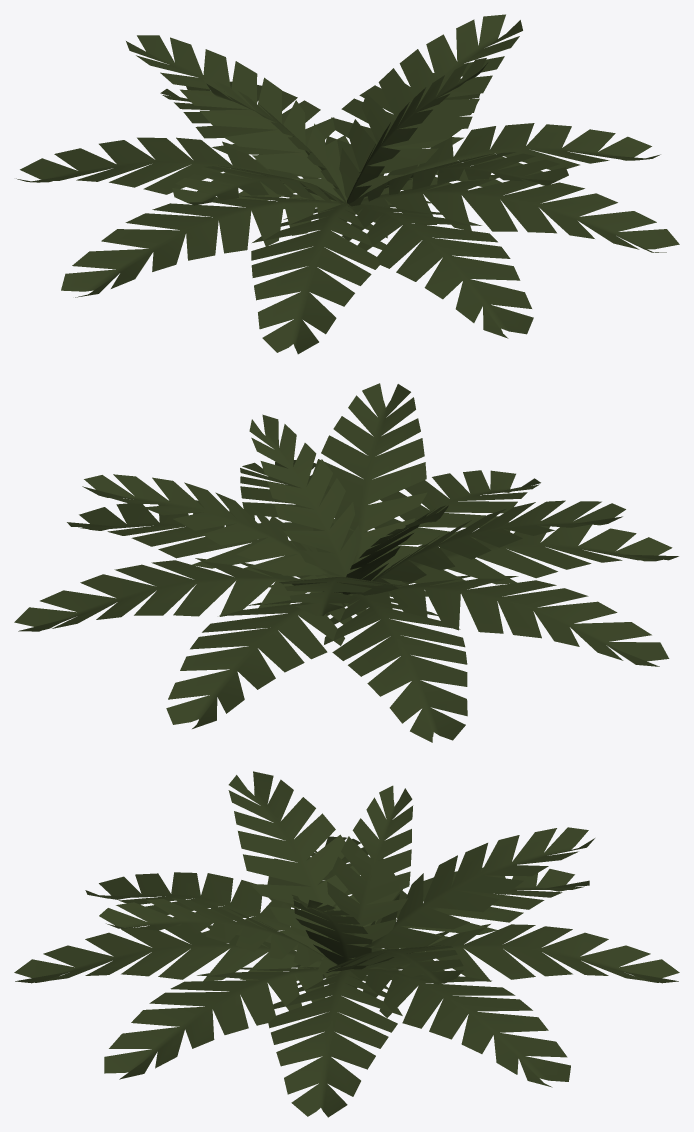
File: fern.fbx
3 views of the same model, one above another, from view 1: azimuth 30°, elevation 25°; view 2: azimuth 150°, elevation 25°; view 3: azimuth 270°, elevation 25° (orthographic). The views are drawn at different scales.
Visible parts, largest first — view 1: fern; view 2: fern; view 3: fern.
Part boxes in pixels (left/top/right/bottom): fern: left=16, top=14, right=679, bottom=354; fern: left=14, top=383, right=678, bottom=742; fern: left=14, top=771, right=679, bottom=1117.
Size of the model in its own units: 10.8 by 2.51 by 10.82.
